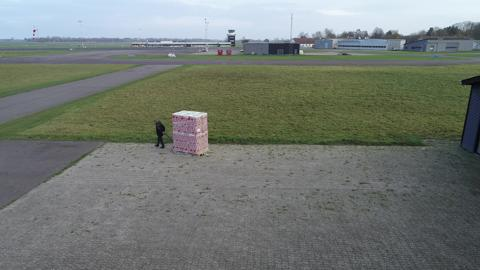RockwoolPallet: (172, 110, 209, 156)
